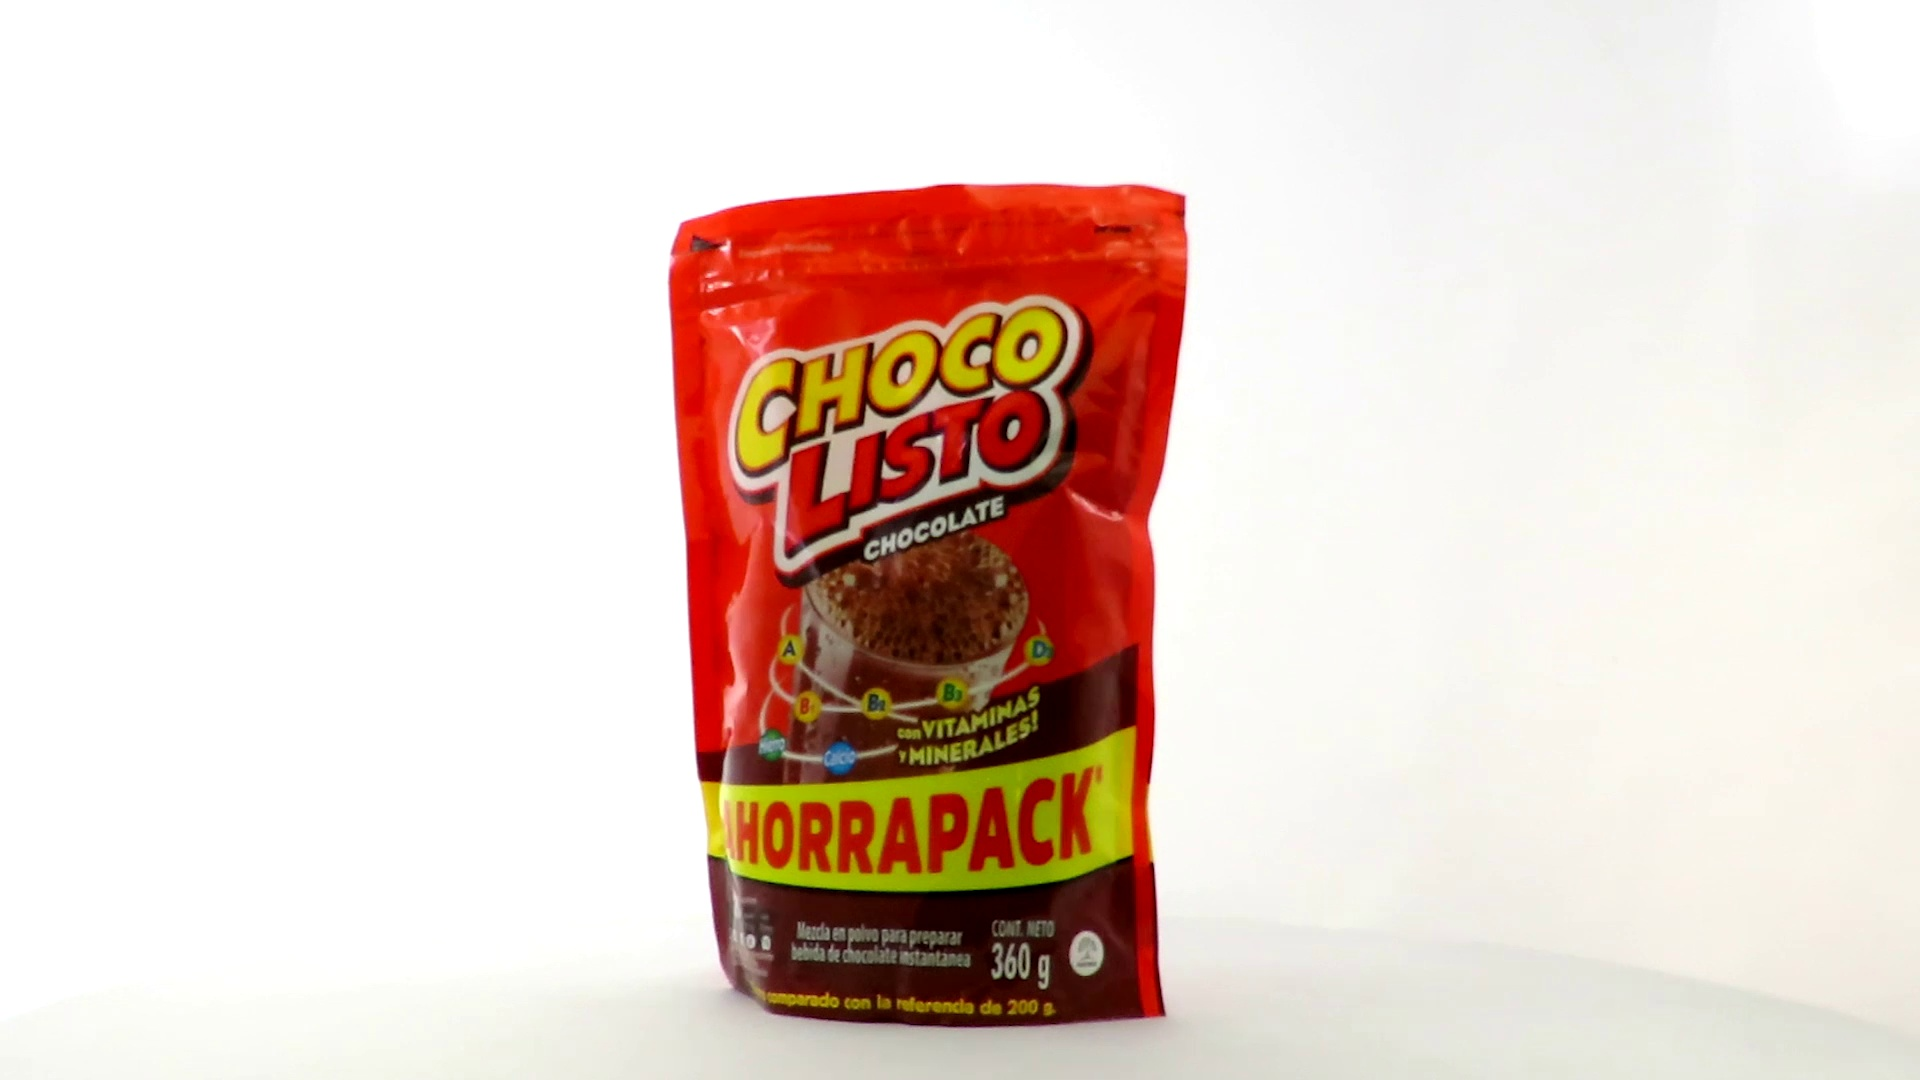COL0170103DYP36000: (663, 178, 1193, 1034)
